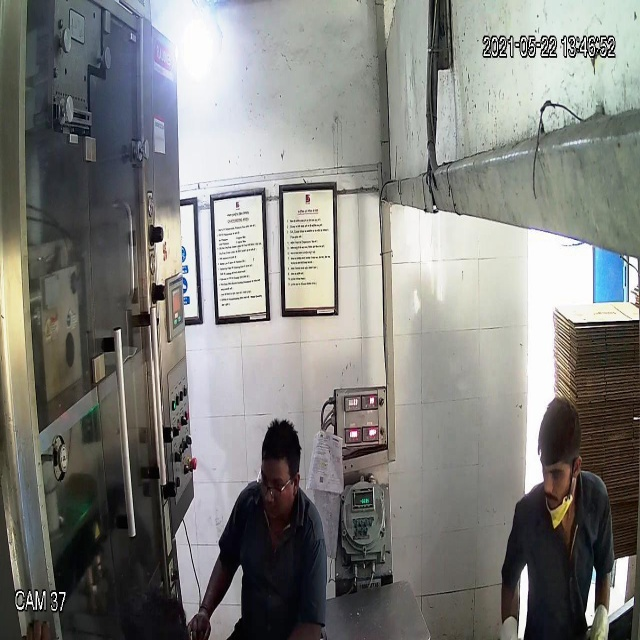Gafas: (255, 470, 300, 503)
Sin_gafas: (536, 456, 570, 486)
